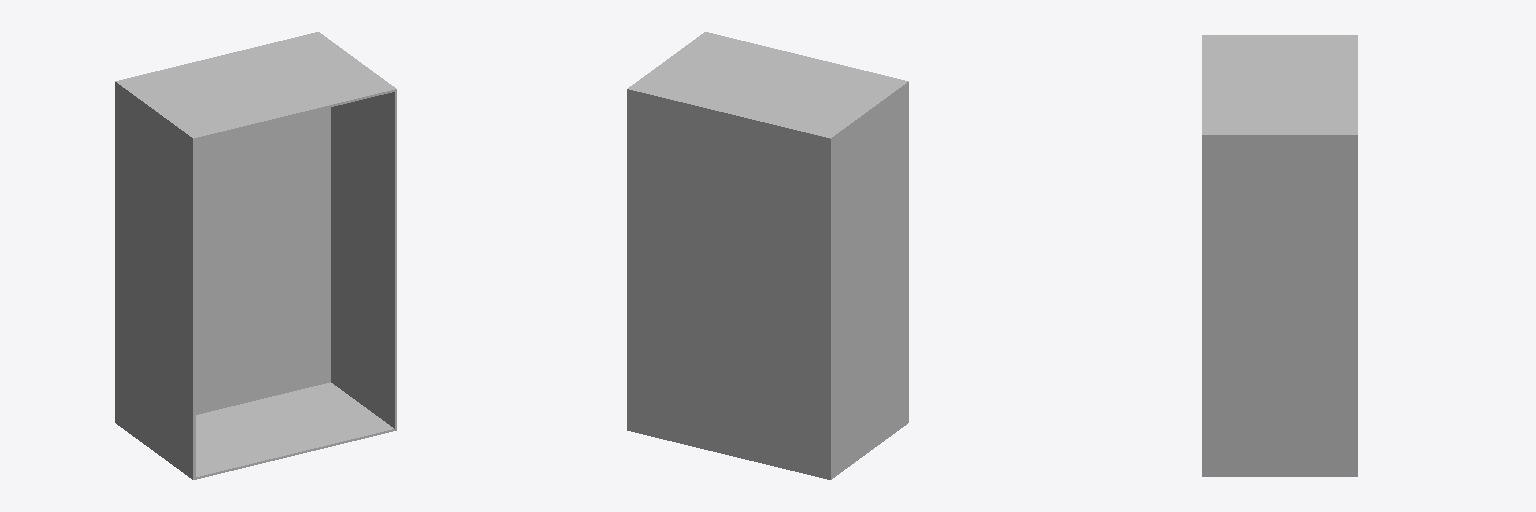
The model's file is Cart_pocket.obj.
3 views of the same model, side by side, from view 1: azimuth 30°, elevation 25°; view 2: azimuth 150°, elevation 25°; view 3: azimuth 270°, elevation 25° (orthographic).
Size of the model in its own units: 0.47 by 0.7538 by 0.3129.